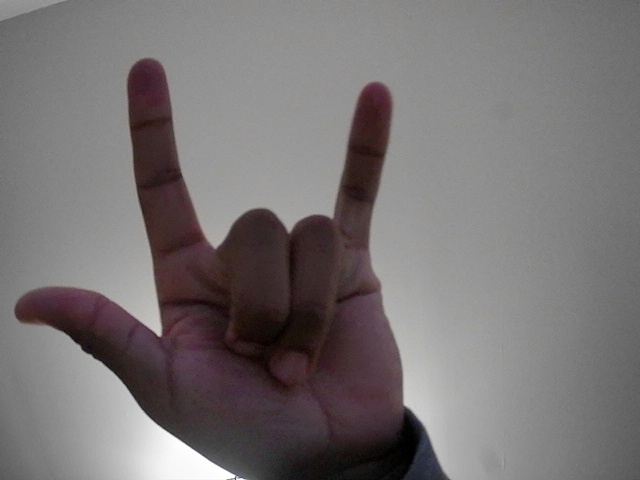ILoveYou: (5, 36, 435, 480)
